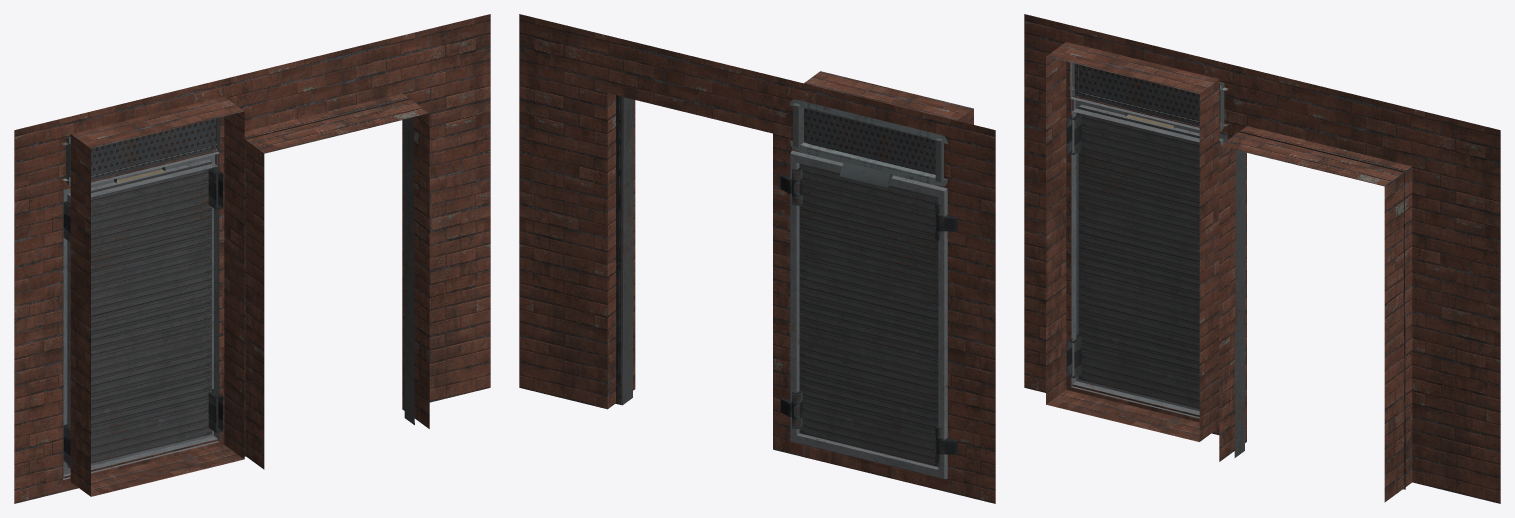
File: ARC0910019.fbx
3 renders of one model, left to right at view 1: azimuth 30°, elevation 25°; view 2: azimuth 150°, elevation 25°; view 3: azimuth 330°, elevation 25°, orthographic.
Visible parts, largest first — view 1: smARC0910019; view 2: smARC0910019; view 3: smARC0910019.
Boxes of the visible parts, x1,y1,x2,y2 form: smARC0910019: [14, 14, 490, 503]; smARC0910019: [519, 14, 995, 503]; smARC0910019: [1024, 14, 1500, 503].
Bounding box in the file's own units: 400 × 301 × 49.97.
1 material, 1 textured.
